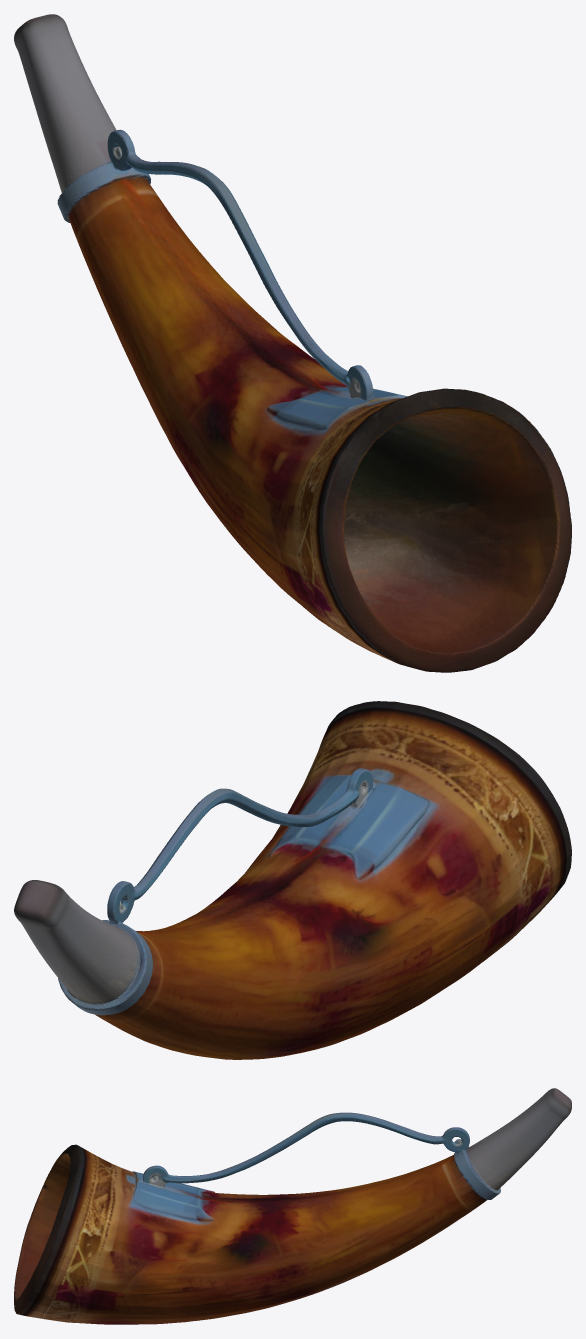
Rendered from niujiaohao.glb.
3 renders of one model, top to bottom at view 1: azimuth 30°, elevation 25°; view 2: azimuth 150°, elevation 25°; view 3: azimuth 270°, elevation 25°, orthographic. The views are drawn at different scales.
Visible parts, largest first — view 1: tripo_node_64144be9-efe1-42c5-8f42-fda6847a1f1c; view 2: tripo_node_64144be9-efe1-42c5-8f42-fda6847a1f1c; view 3: tripo_node_64144be9-efe1-42c5-8f42-fda6847a1f1c.
Boxes of the visible parts, x1,y1,x2,y2 form: tripo_node_64144be9-efe1-42c5-8f42-fda6847a1f1c: (14, 14, 571, 672); tripo_node_64144be9-efe1-42c5-8f42-fda6847a1f1c: (14, 701, 571, 1059); tripo_node_64144be9-efe1-42c5-8f42-fda6847a1f1c: (14, 1088, 571, 1324).
Bounding box in the file's own units: 33.58 × 47.18 × 106.
Materials: 1 (1 with a texture image).
